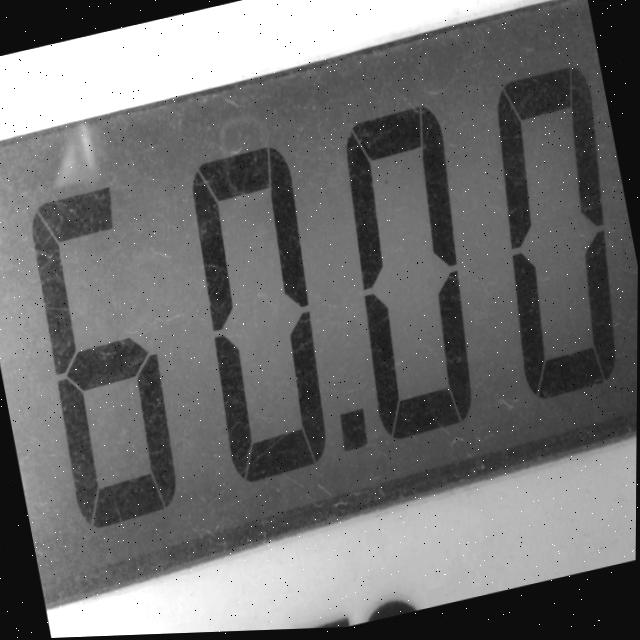.: (325, 382, 385, 480)
0: (150, 123, 359, 504), (310, 94, 509, 455), (462, 48, 640, 415)
6: (0, 164, 221, 562)
